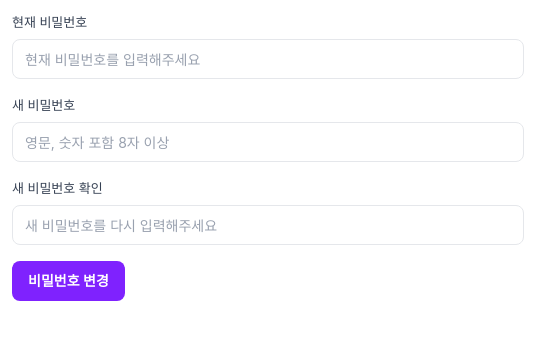
Test: PasswordForm › 현재 비밀번호 미입력 후 blur 시 에러 메시지가 표시된다
Click the password field labelled "현재 비밀번호": (268, 59) left=12, top=39, right=524, bottom=79
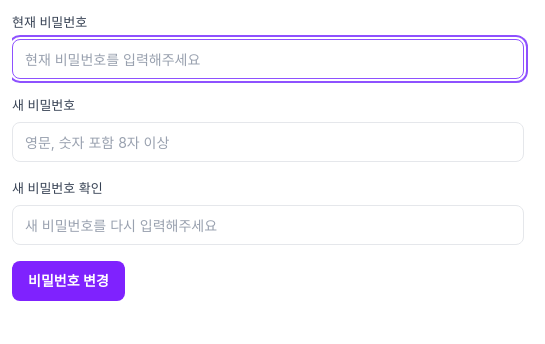
Press Tab
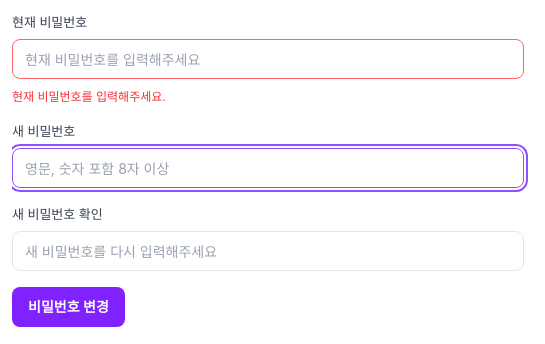
Result: the text "현재 비밀번호를 입력해주세요." is shown at left=12, top=89, right=166, bottom=104
